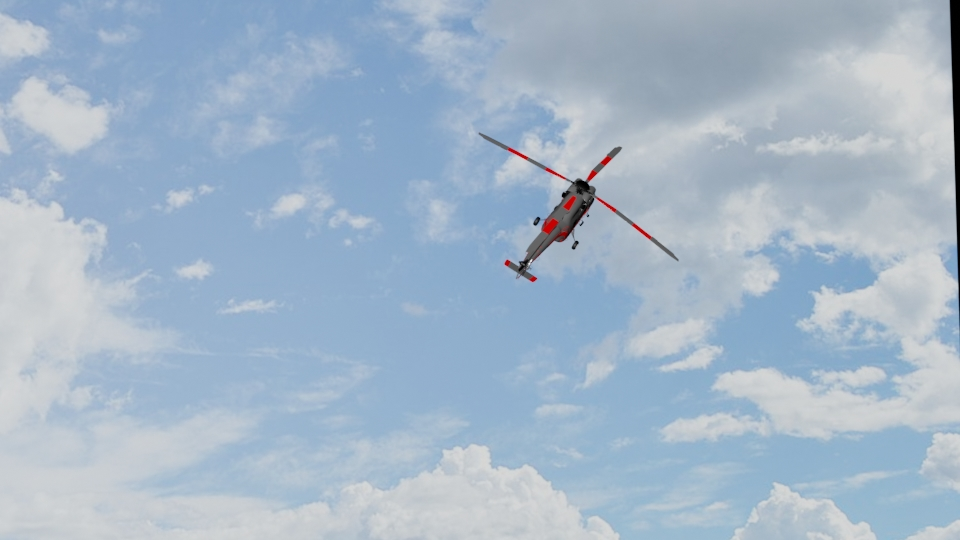heli: (476, 126, 681, 283)
